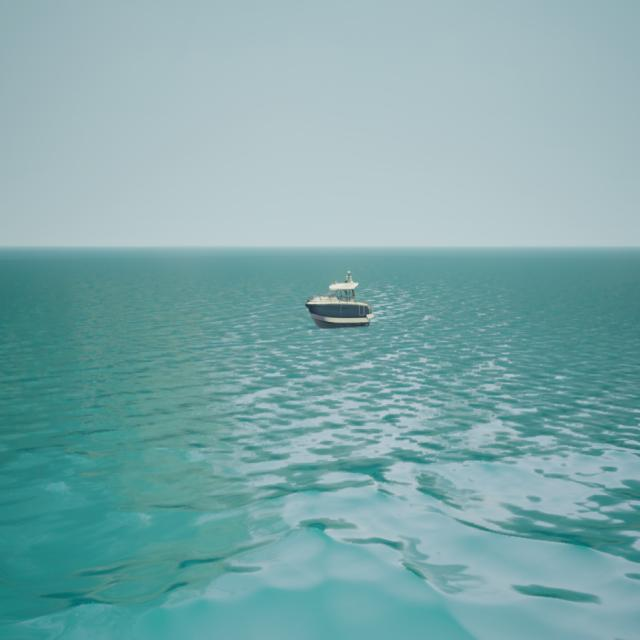ship: (304, 267, 373, 326)
